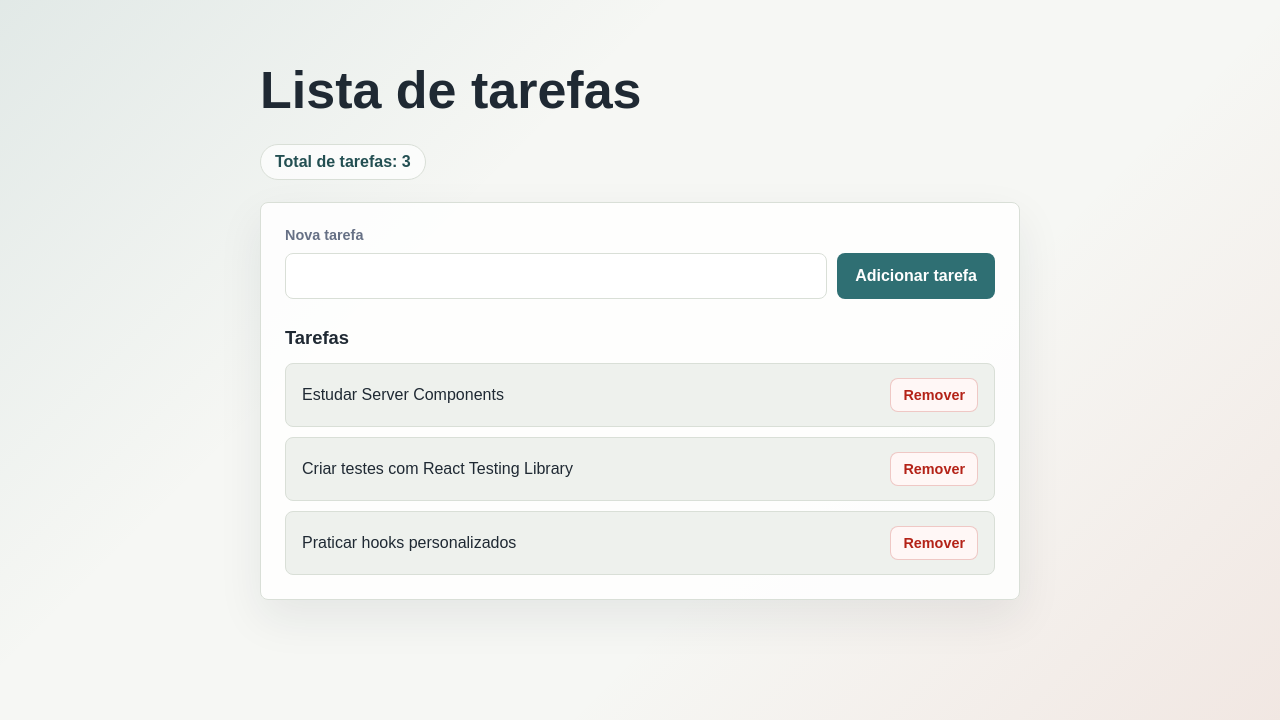
Test: Home › remove uma tarefa pela pagina principal
Click the button with aria-label "remover tarefa estudar server components": (934, 395) 890,378 -> 978,412
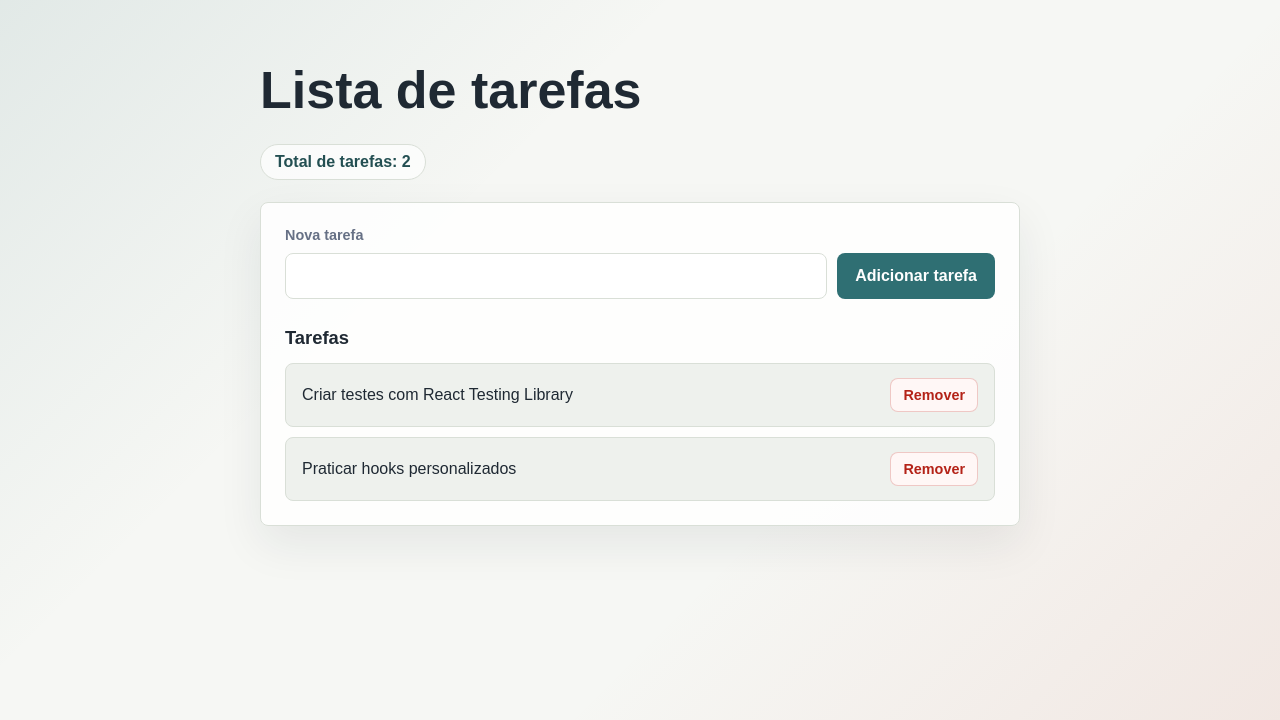
Expected: the text "Estudar Server Components" is gone
Expected: the text labelled "Total de tarefas: 2" is shown, 260,144 -> 426,180
